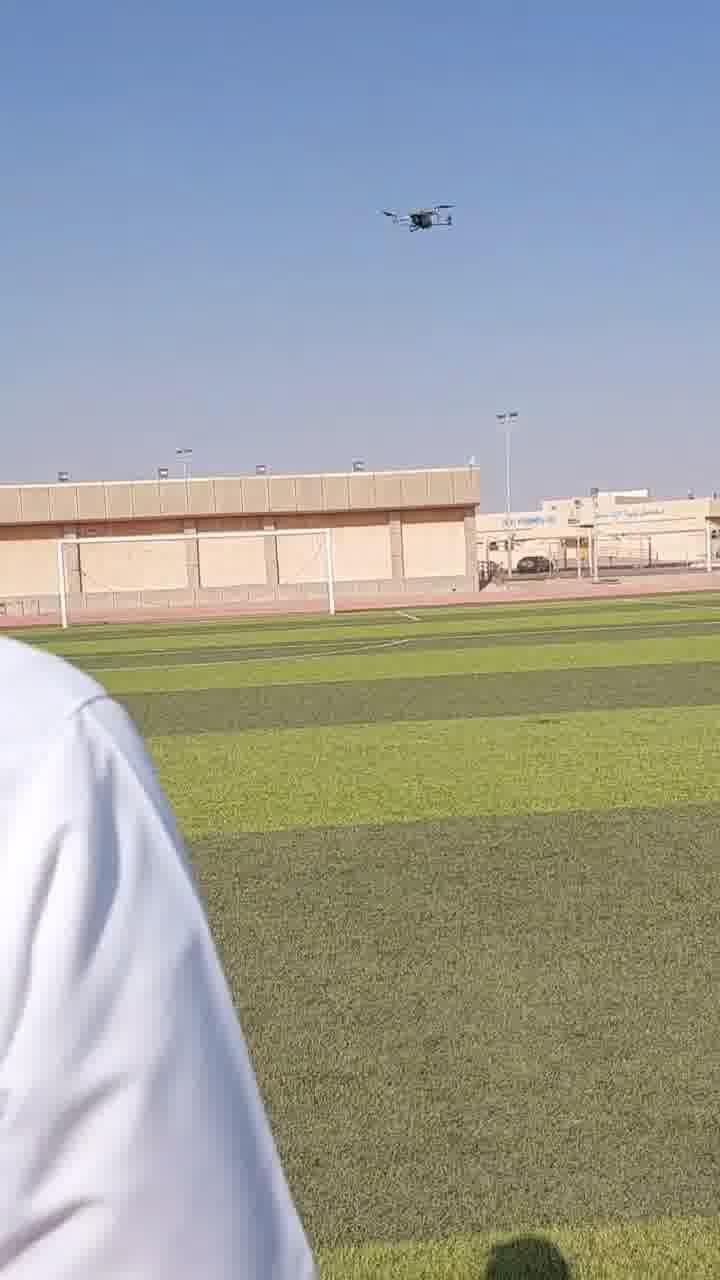drone: (372, 199, 467, 240)
